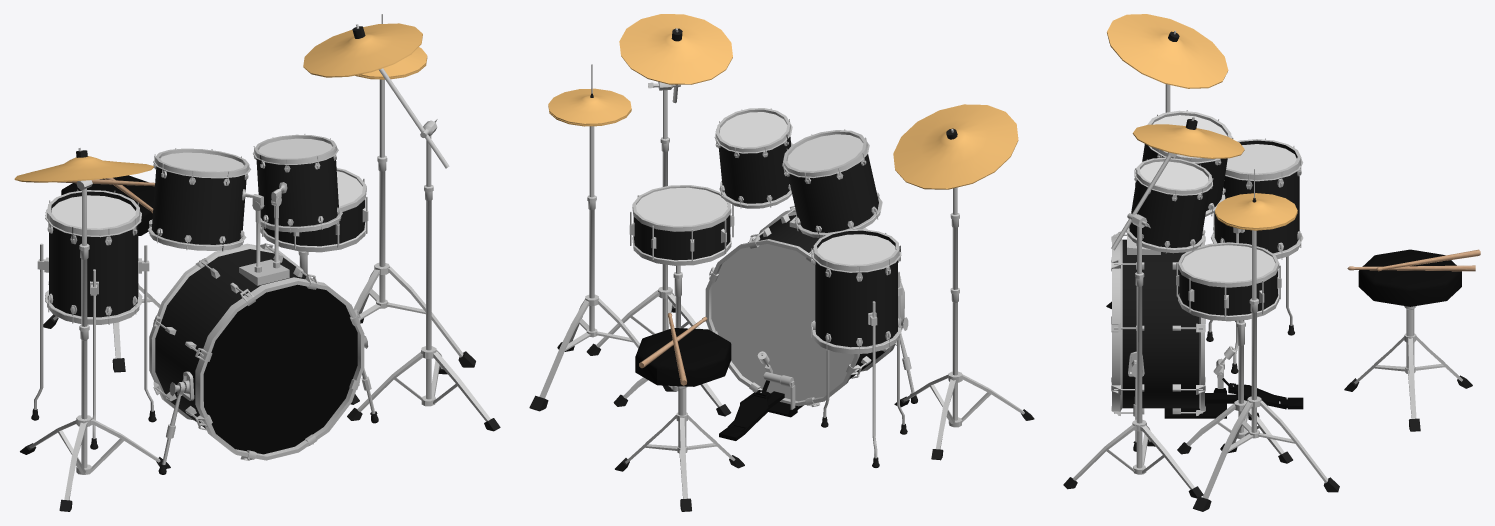
File: SM_DrumSet_1k.fbx
3 renders of one model, left to right at view 1: azimuth 30°, elevation 25°; view 2: azimuth 150°, elevation 25°; view 3: azimuth 270°, elevation 25°, orthographic. The views are drawn at different scales.
Parts seen in each view (by area): view 1: Drum_4k, Drum_4k.003, Drum_4k.001, Drum_4k.002, Drum_4k.005, Drum_4k.004, DrumChair_4k; view 2: Drum_4k, Drum_4k.003, Drum_4k.002, Drum_4k.001, Drum_4k.004, DrumChair_4k, Drum_4k.005, Drum_4k.006; view 3: Drum_4k, Drum_4k.004, Drum_4k.001, Drum_4k.002, Drum_4k.003, DrumChair_4k, Drum_4k.005, Drum_4k.006, DrumStick_4k, DrumStick_4k.001.
Part boxes in pixels (bbox=[...]): Drum_4k: bbox=[148, 134, 378, 474]; Drum_4k.003: bbox=[31, 189, 156, 449]; Drum_4k.001: bbox=[303, 23, 500, 431]; Drum_4k.002: bbox=[14, 148, 170, 511]; Drum_4k.005: bbox=[353, 14, 475, 367]; Drum_4k.004: bbox=[260, 168, 368, 404]; DrumChair_4k: bbox=[43, 175, 160, 372]; Drum_4k: bbox=[705, 108, 917, 406]; Drum_4k.003: bbox=[811, 228, 907, 467]; Drum_4k.002: bbox=[893, 104, 1034, 460]; Drum_4k.001: bbox=[586, 14, 732, 355]; Drum_4k.004: bbox=[613, 185, 734, 416]; DrumChair_4k: bbox=[615, 328, 744, 511]; Drum_4k.005: bbox=[529, 64, 676, 411]; Drum_4k.006: bbox=[719, 351, 803, 440]; Drum_4k: bbox=[1111, 110, 1233, 451]; Drum_4k.004: bbox=[1176, 242, 1292, 463]; Drum_4k.001: bbox=[1063, 117, 1244, 498]; Drum_4k.002: bbox=[1106, 14, 1244, 321]; Drum_4k.003: bbox=[1206, 138, 1303, 373]; DrumChair_4k: bbox=[1344, 249, 1472, 431]; Drum_4k.005: bbox=[1193, 169, 1339, 511]; Drum_4k.006: bbox=[1164, 345, 1303, 418]; DrumStick_4k: bbox=[1347, 265, 1475, 271]; DrumStick_4k.001: bbox=[1376, 249, 1480, 271].
Size of the model in its own units: 159 by 120 by 134.
Materials: 2 (2 with a texture image).
